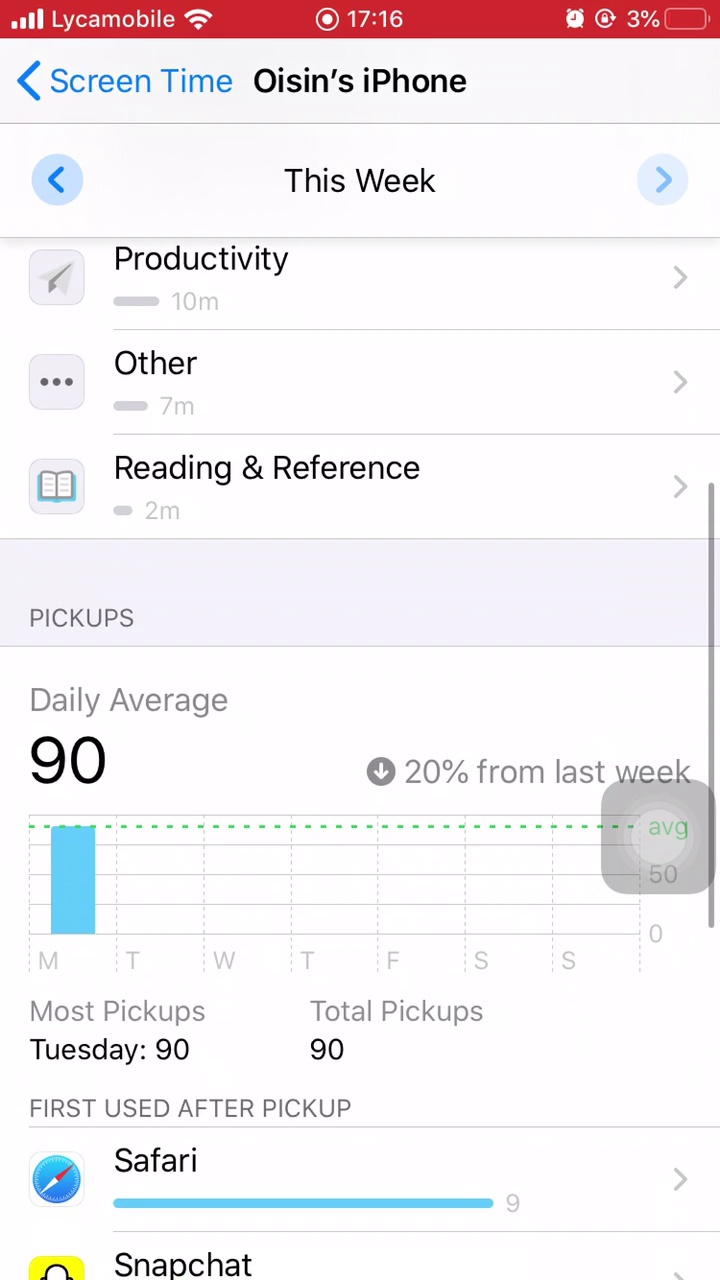pick_app: (31, 1136, 575, 1216)
pick_over: (26, 996, 550, 1075)
week: (262, 154, 452, 207)
